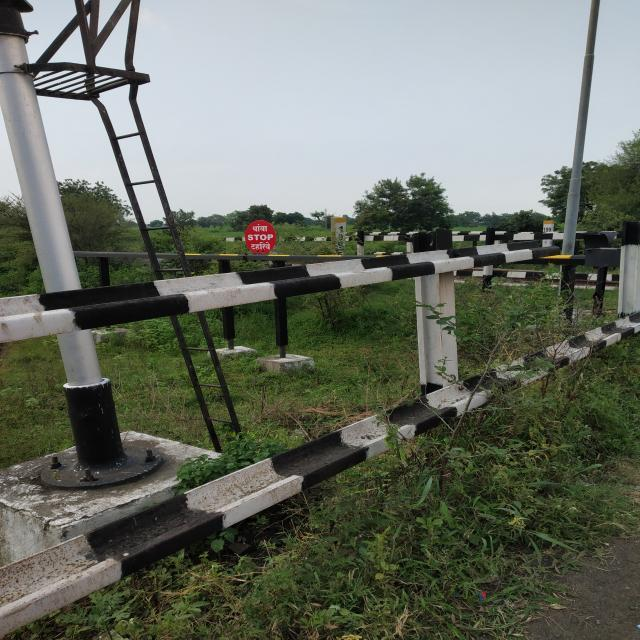stop: (245, 220, 277, 254)
